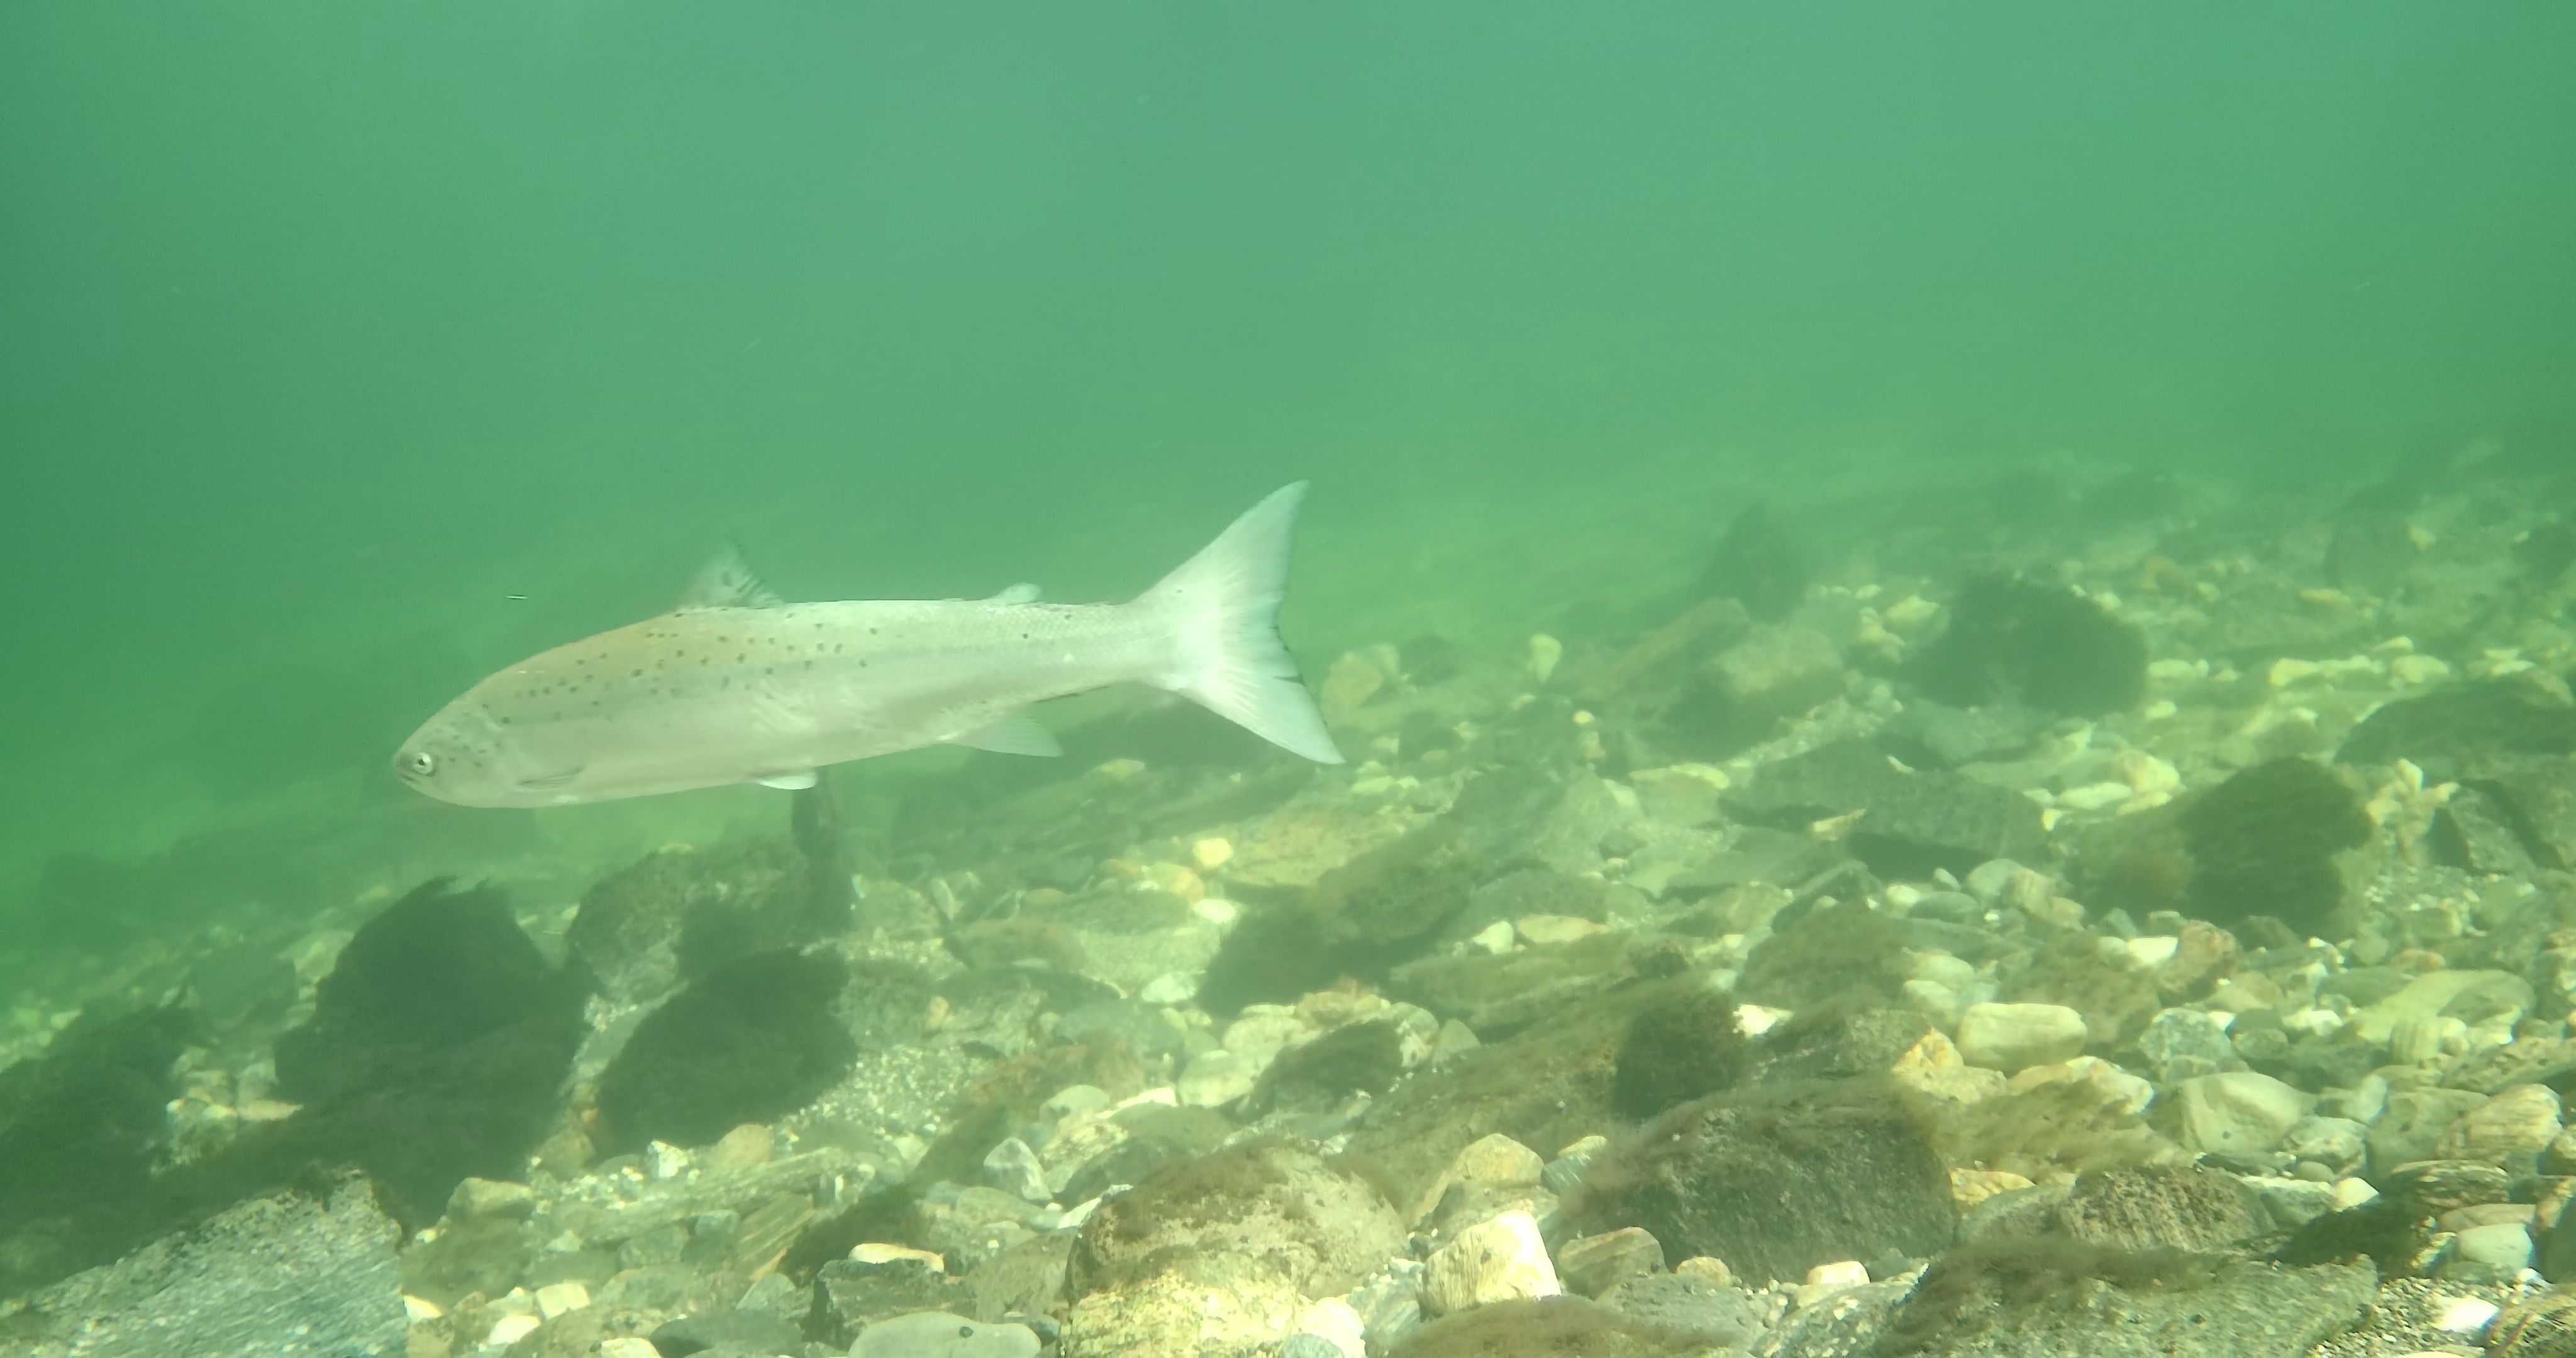salmon: (388, 477, 1346, 813)
